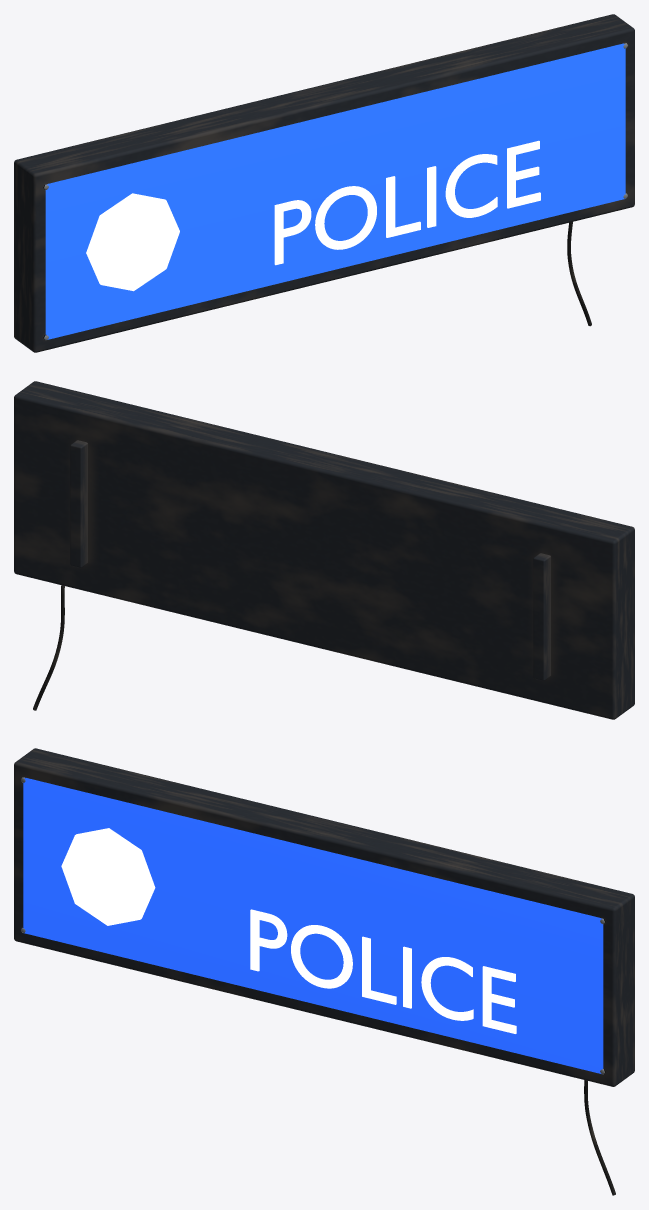
The model's file is kom_szyld.glb.
3 renders of one model, top to bottom at view 1: azimuth 30°, elevation 25°; view 2: azimuth 150°, elevation 25°; view 3: azimuth 330°, elevation 25°, orthographic.
Parts seen in each view (by area): view 1: SwiatloLico, Kaseton, SwiatloNapis, SwiatloZnak; view 2: Kaseton; view 3: SwiatloLico, Kaseton, SwiatloZnak, SwiatloNapis.
Boxes of the visible parts, bbox=[...] form: SwiatloLico: bbox=[45, 43, 625, 339]; Kaseton: bbox=[14, 14, 634, 352]; SwiatloNapis: bbox=[274, 140, 540, 265]; SwiatloZnak: bbox=[86, 193, 179, 291]; Kaseton: bbox=[14, 381, 634, 719]; SwiatloLico: bbox=[23, 777, 603, 1073]; Kaseton: bbox=[14, 748, 634, 1195]; SwiatloZnak: bbox=[61, 828, 155, 925]; SwiatloNapis: bbox=[250, 909, 516, 1033].
Size of the model in its own units: 2.6 by 1.27 by 0.228.
Materials: 3 (1 with a texture image).
